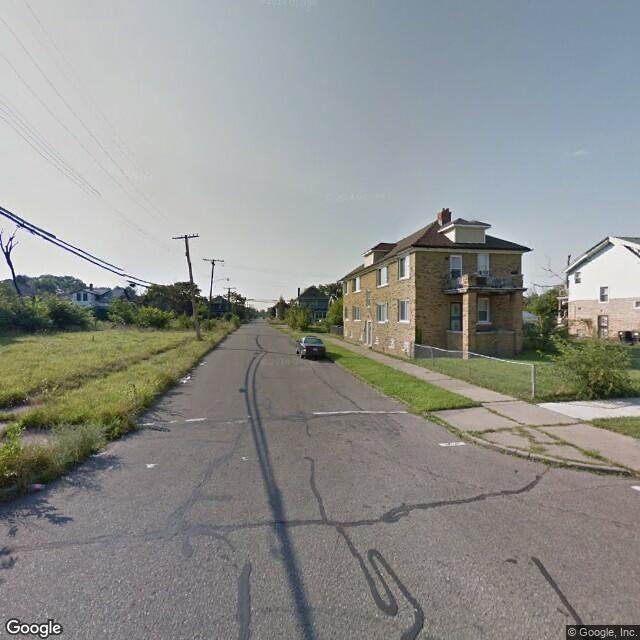litter: (28, 481, 46, 495), (439, 441, 463, 448), (148, 459, 159, 471), (180, 373, 193, 381), (197, 360, 202, 366)
